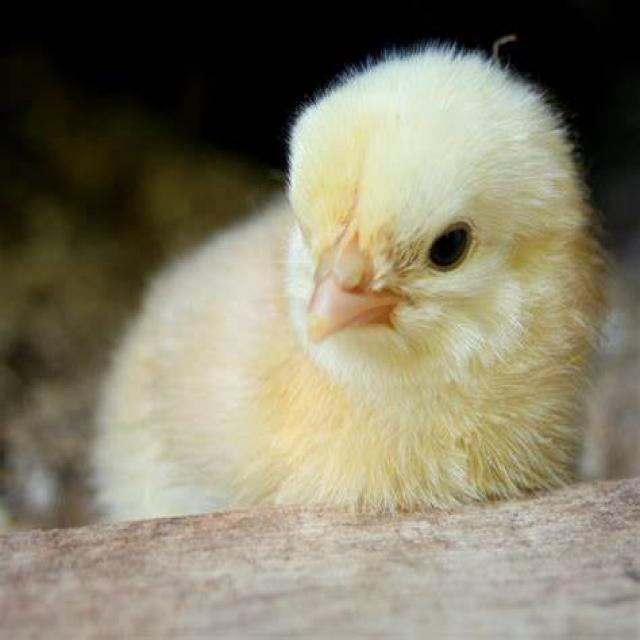poussin: (74, 40, 616, 546)
